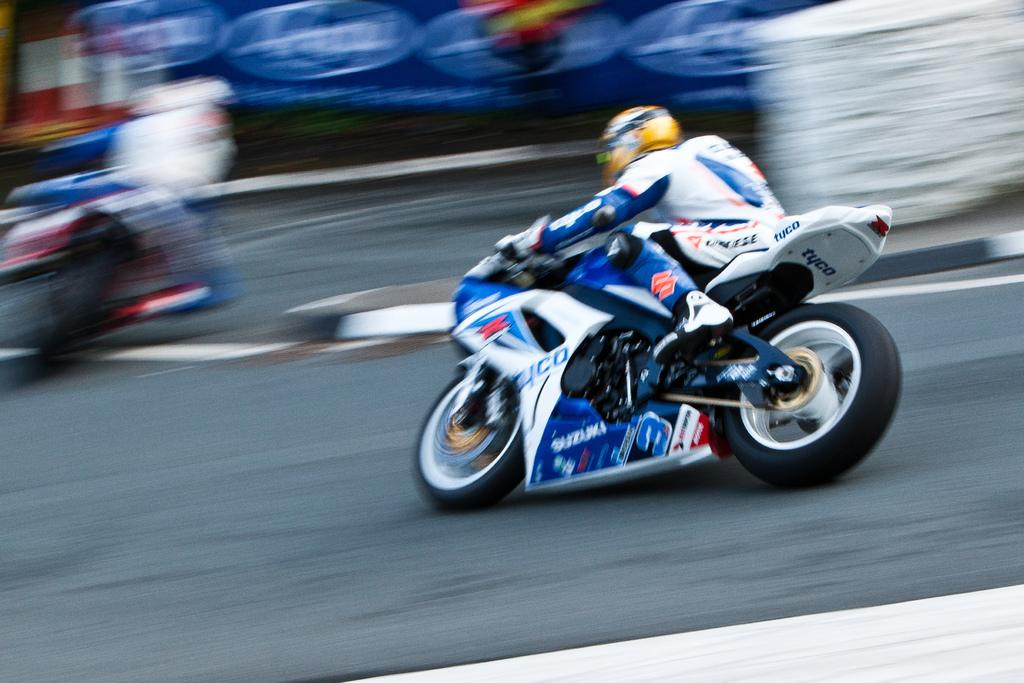helmet: (595, 105, 686, 194)
